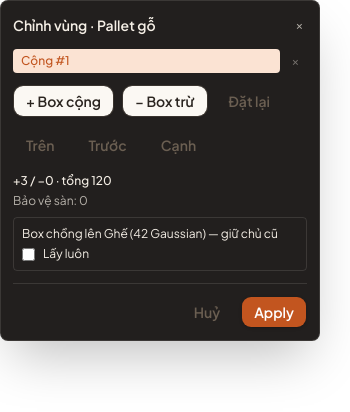
Test case: panel chỉnh vùng › vật chồng lấn nêu tên và số Gaussian; Lấy luôn đưa id vào claim_from của lần xem trước sau
Expected: the text "Box chồng lên Ghế (42 Gaussian) — giữ chủ cũ" is shown, [22, 226, 298, 242]
Click the checkbox named "Lấy luôn từ Ghế" at (28, 254), box [22, 248, 35, 260]
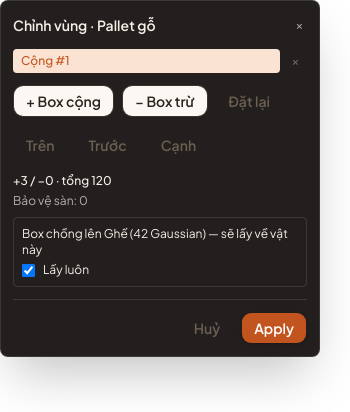
Expected: the text "Box chồng lên Ghế (42 Gaussian) — sẽ lấy về vật này" is shown, [22, 226, 298, 258]
